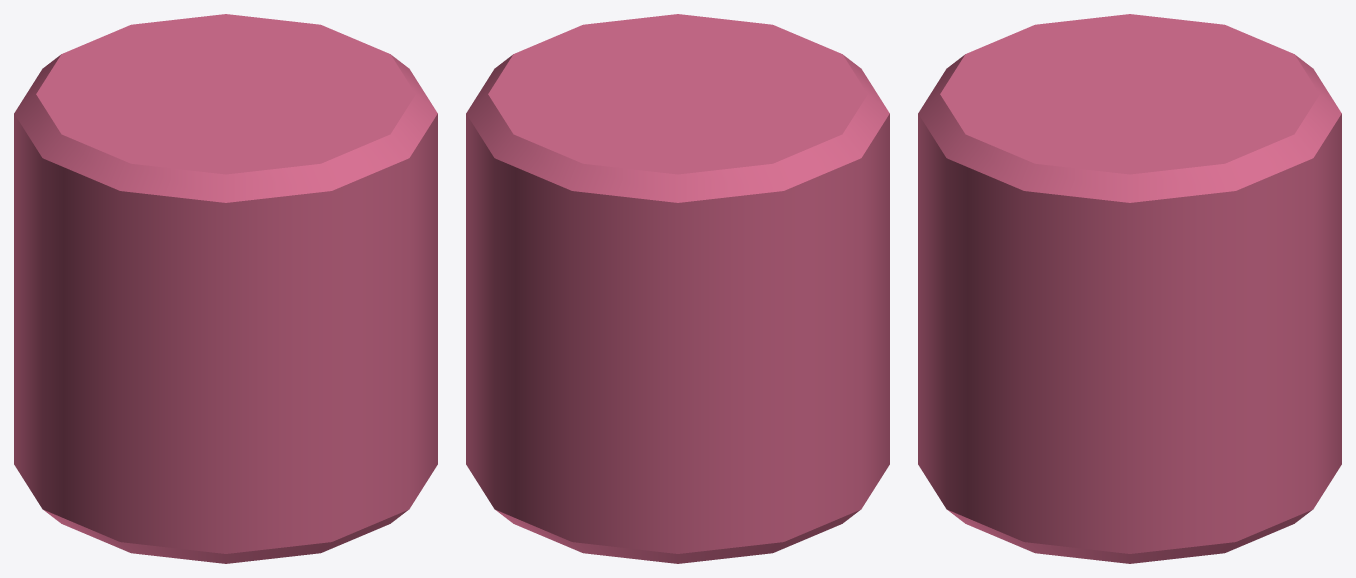
The model's file is ThrowProp_BuildingBlock_CylinderS.FBX.
3 views of the same model, side by side, from view 1: azimuth 30°, elevation 25°; view 2: azimuth 150°, elevation 25°; view 3: azimuth 270°, elevation 25° (orthographic).
Parts seen in each view (by area): view 1: BuildingBlock_CylinderS; view 2: BuildingBlock_CylinderS; view 3: BuildingBlock_CylinderS.
Boxes of the visible parts, x1,y1,x2,y2 form: BuildingBlock_CylinderS: [14, 14, 437, 563]; BuildingBlock_CylinderS: [466, 14, 889, 563]; BuildingBlock_CylinderS: [918, 14, 1341, 563].
Size of the model in its own units: 5 by 5.07 by 5.
Materials: 1 (1 with a texture image).
